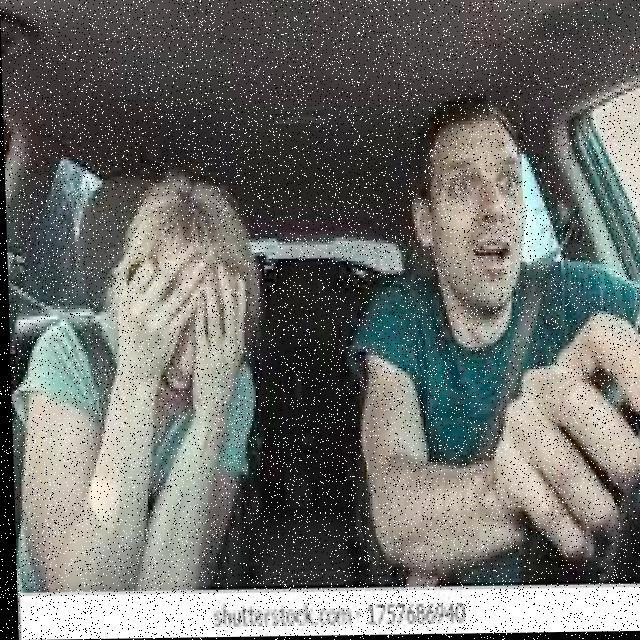seatbelt: (7, 269, 160, 507), (454, 230, 580, 462)
